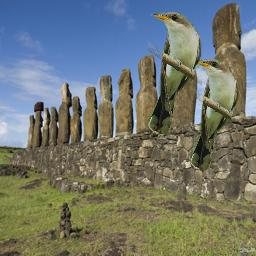Cuckoo: (148, 12, 202, 135), (190, 59, 239, 170)
